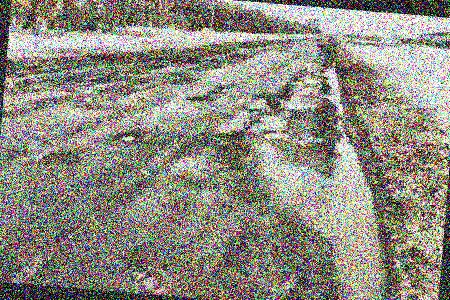pothole: (262, 128, 293, 141), (115, 130, 138, 143), (185, 93, 213, 103), (248, 107, 262, 114)
